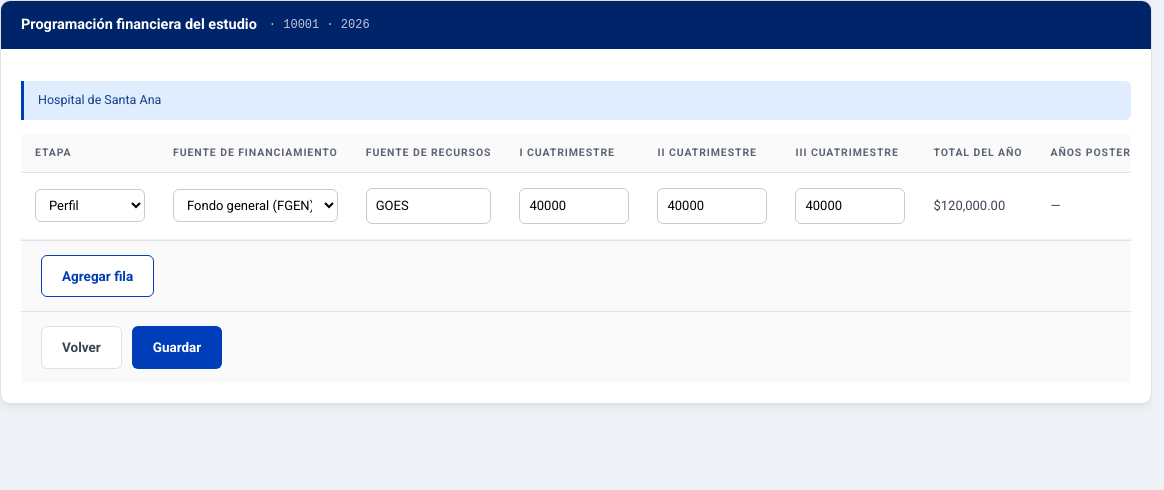
PAP · casos de borde comunes › agregar una fuente la deja en la etapa que se está trabajando
Expected: the text "Hospital de Santa Ana" is shown, top-left (21, 81), bottom-right (1131, 120)
What coordinates should you click on to do the following:
click the button "Agregar fila"
I would click on:
 (98, 276)
Its box is top-left (41, 255), bottom-right (154, 297).
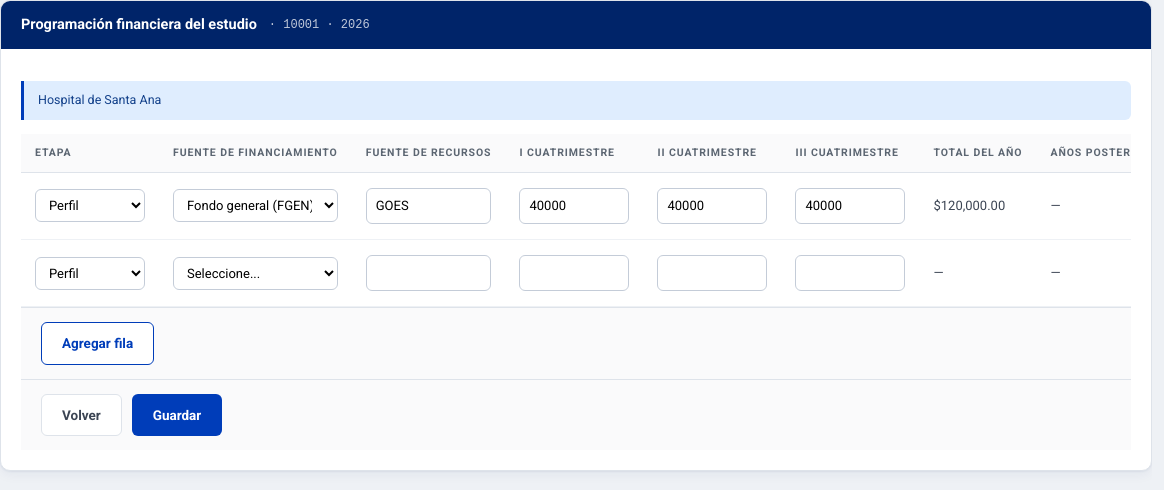
Expected: the dropdown named "Etapa 2" shows "Perfil", top-left (35, 257), bottom-right (145, 290)
